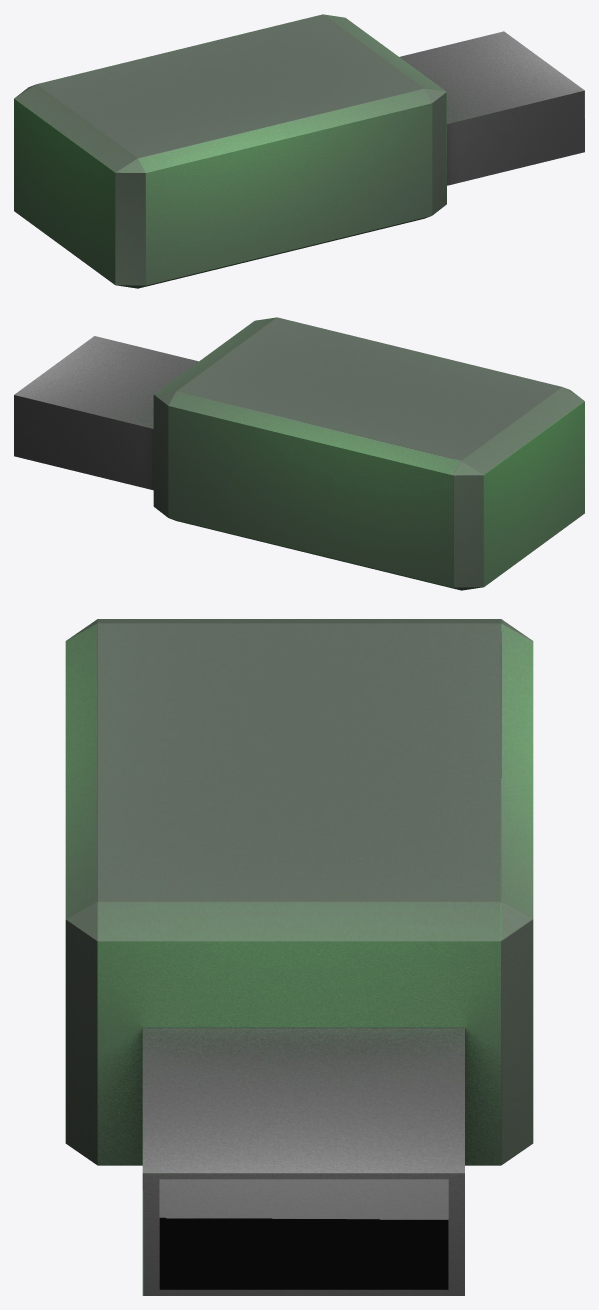
File: equipmentpart2.dae
3 views of the same model, one above another, from view 1: azimuth 30°, elevation 25°; view 2: azimuth 150°, elevation 25°; view 3: azimuth 270°, elevation 25° (orthographic). The views are drawn at different scales.
Parts seen in each view (by area): view 1: Cube; view 2: Cube; view 3: Cube.
Part boxes in pixels (x1,y1,x2,y2): Cube: (14, 14, 584, 288); Cube: (14, 317, 584, 590); Cube: (65, 619, 533, 1295).
Bounding box in the file's own units: 3.02 × 1.28 × 0.7814.
Materials: 1 (1 with a texture image).
